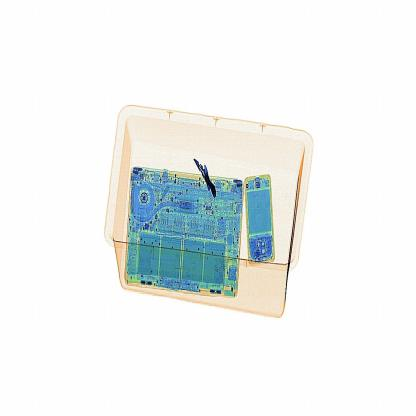wrench: (185, 148, 228, 212)
